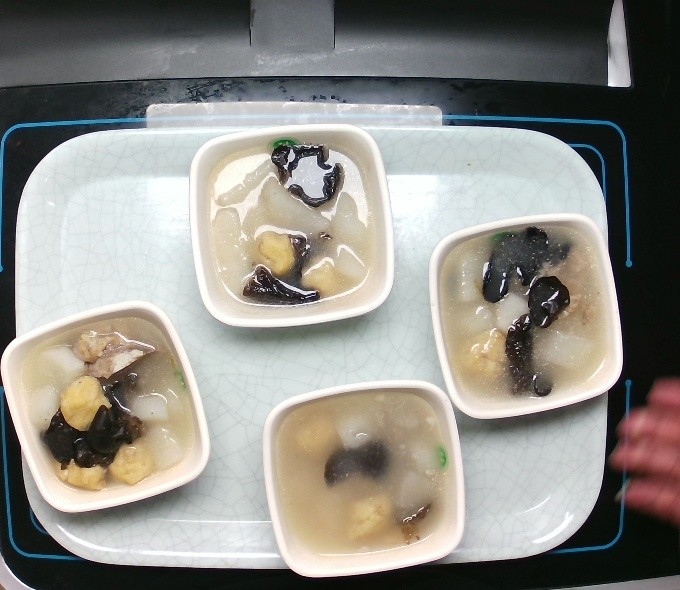wcq-ShanYaoTang: (18, 315, 204, 499), (273, 387, 456, 568), (437, 221, 612, 409), (204, 138, 376, 310)
